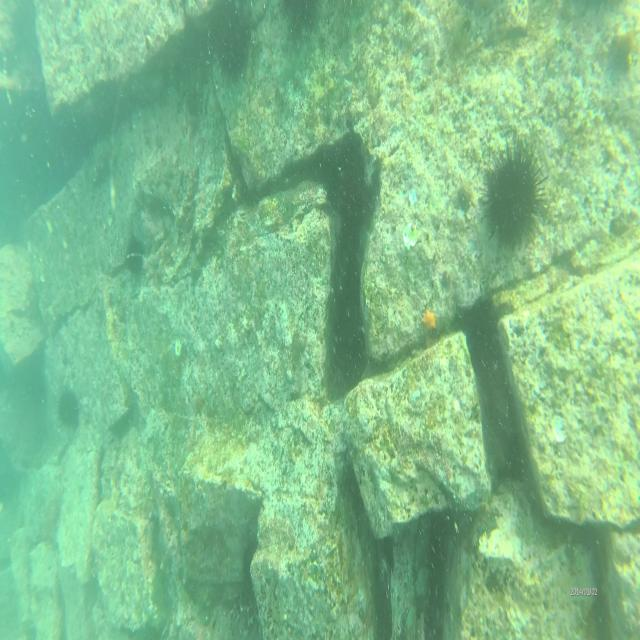echinus: (482, 137, 546, 251), (212, 11, 252, 82), (56, 388, 82, 432), (123, 233, 146, 278)
starfish: (421, 307, 438, 334)
